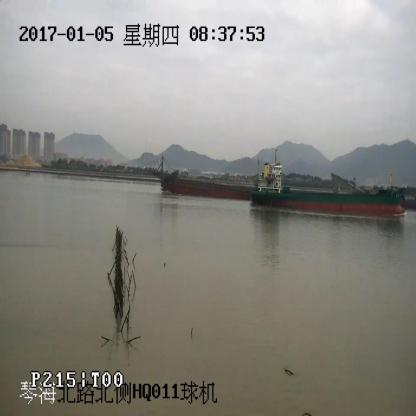Bulk Carrier: (250, 153, 405, 217), (152, 159, 250, 200)
